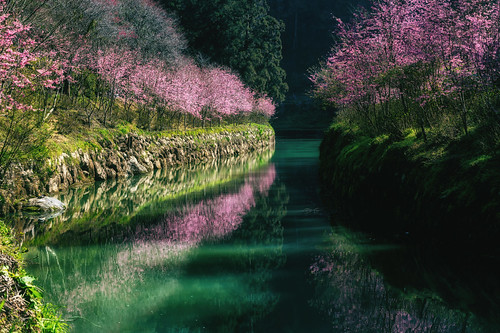river: (50, 142, 500, 333)
vegetation: (1, 1, 267, 138), (329, 1, 500, 132)
